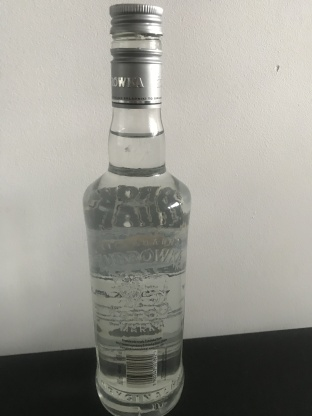nakretka: (108, 0, 165, 109)
